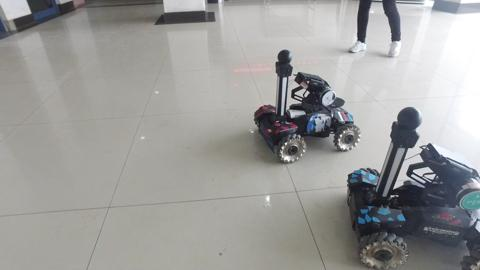chariot: (346, 103, 480, 270), (245, 46, 363, 167)
